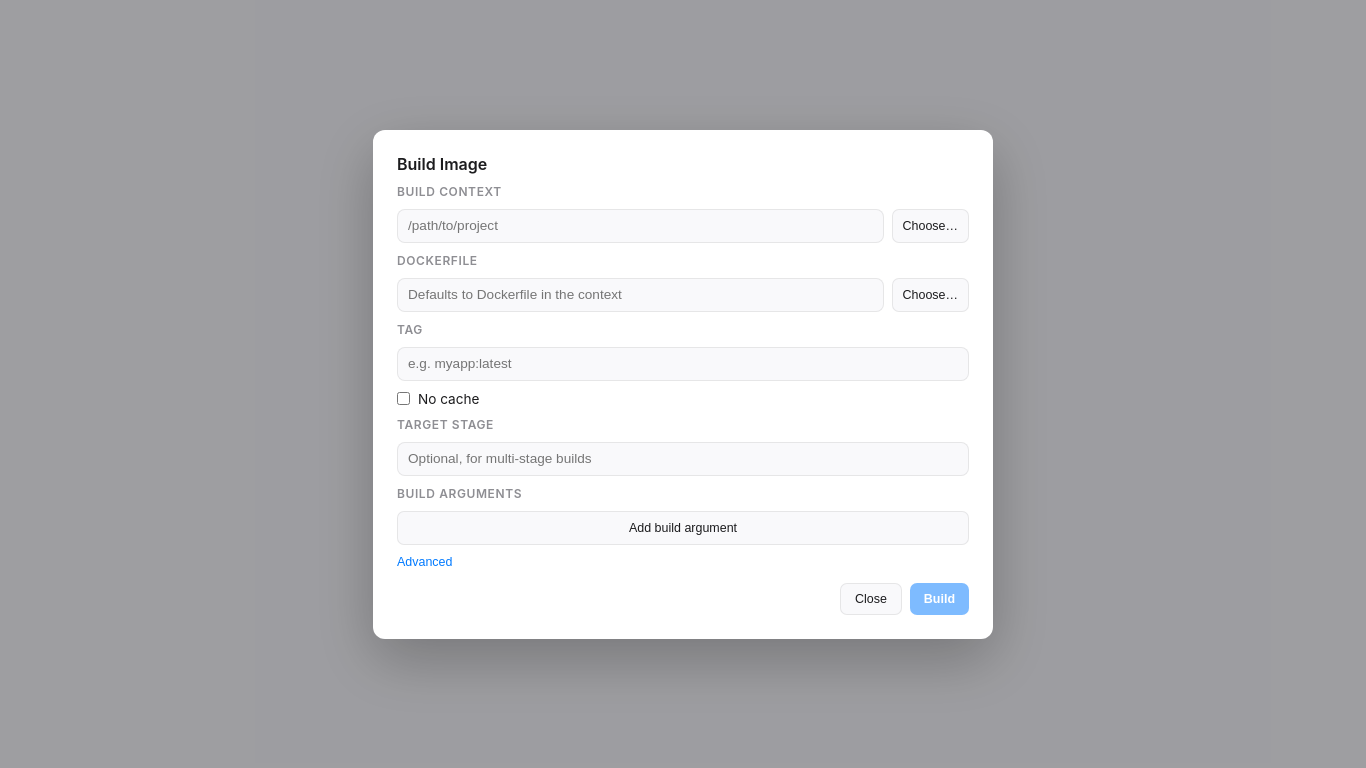
Test: BuildModal › surfaces a build the backend refuses to start
In the field labelled "Build context": (640, 226) [397, 208, 884, 242], type "/src/app"
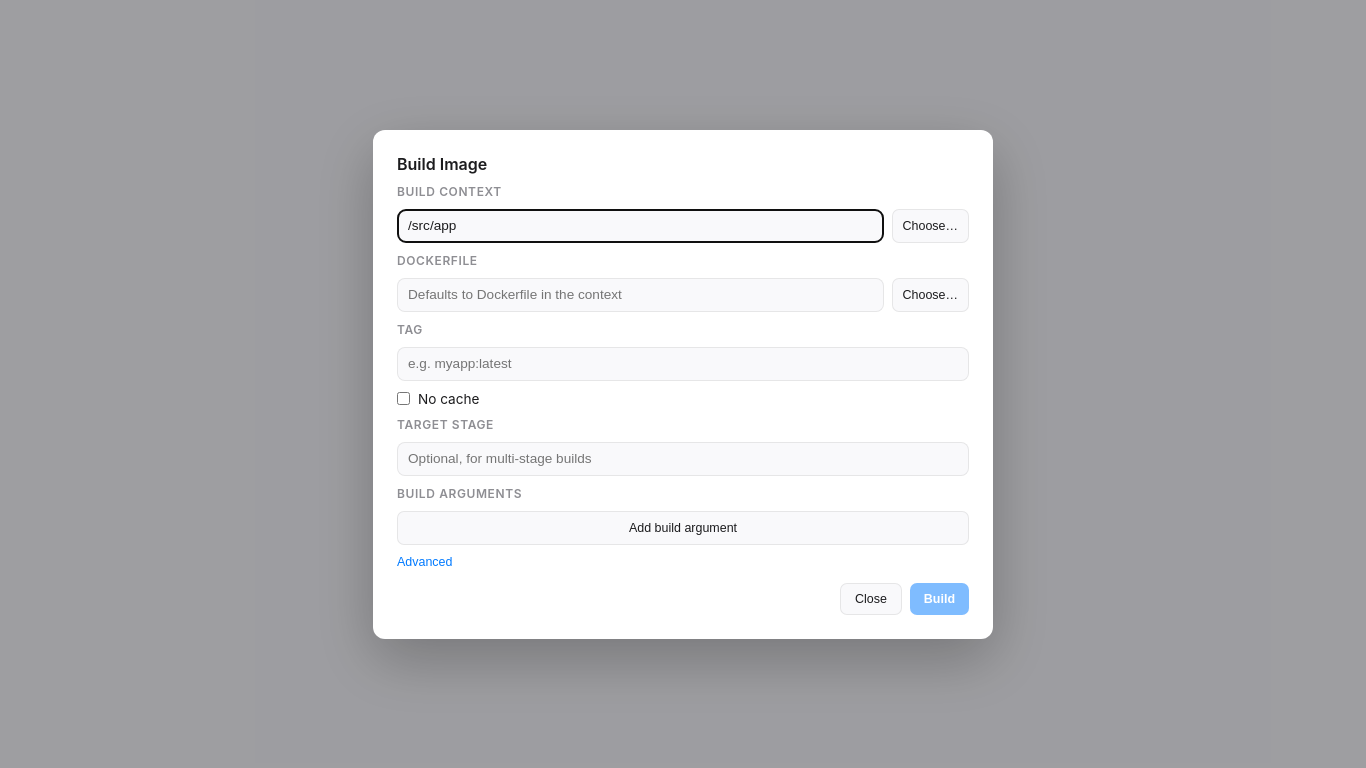
In the field labelled "Tag": (683, 364) [397, 346, 969, 380], type "app:latest"
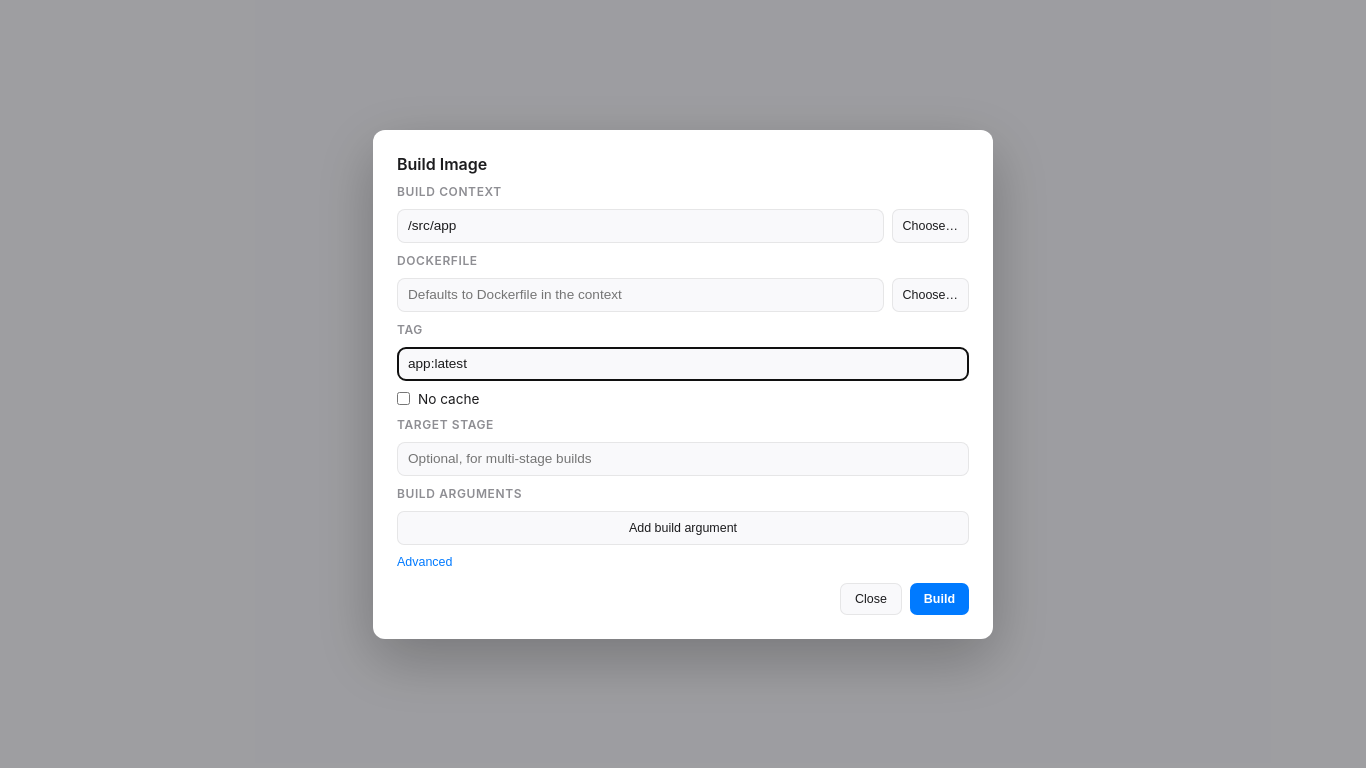
Click the button "Build": (939, 598) [910, 582, 969, 614]
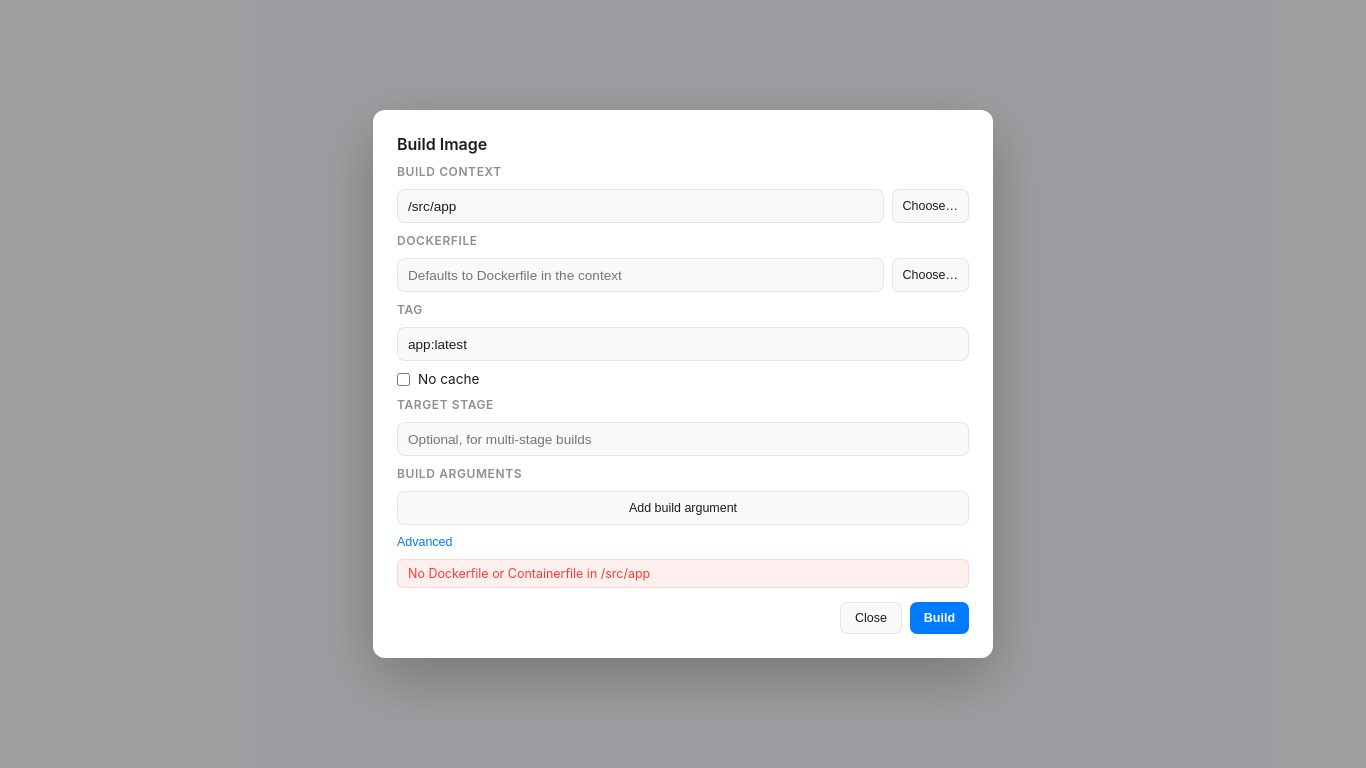
Check: the text "No Dockerfile or Containerfile in /src/app" is shown, box [397, 559, 969, 588]
